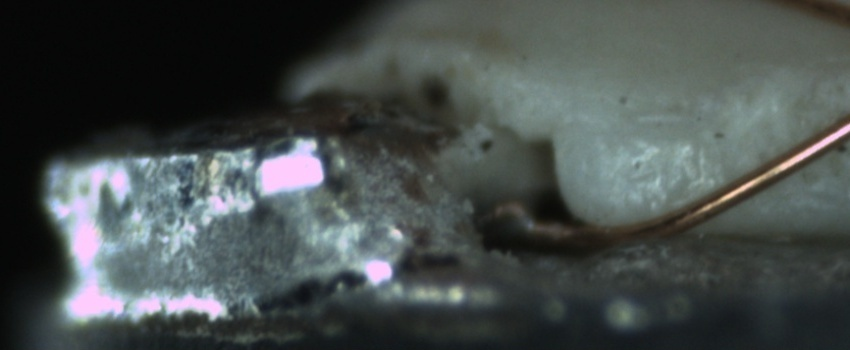DL: (589, 100, 711, 162)
